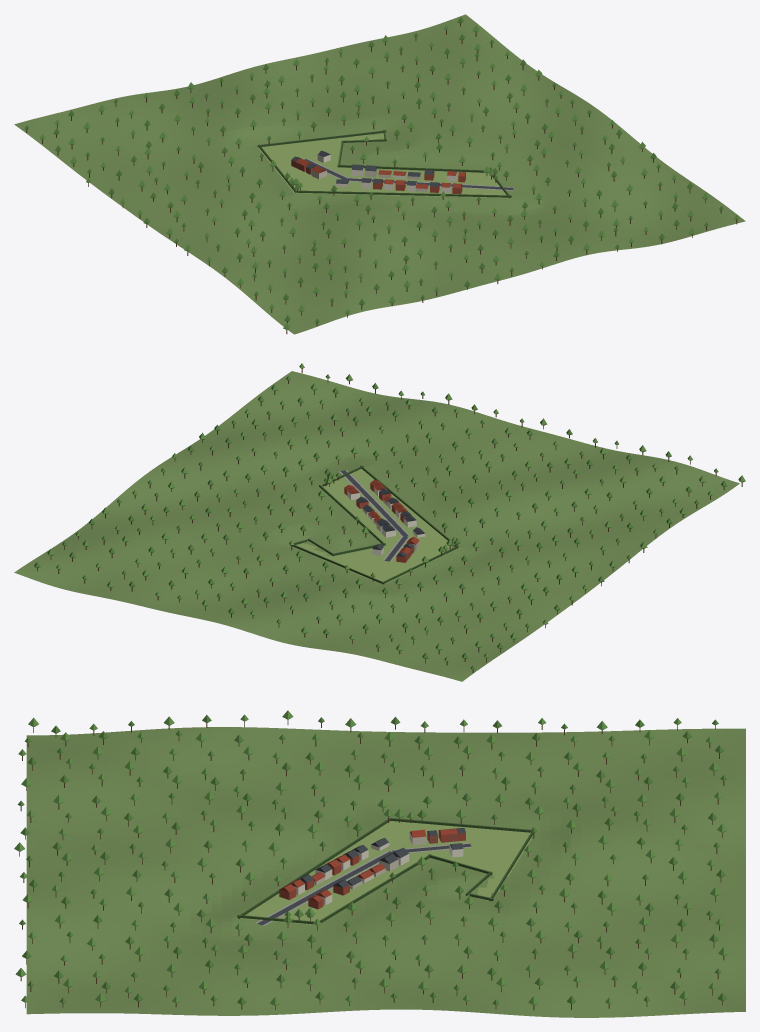
Rendered from landscape.glb.
The picture shows the model from 3 angles, top to bottom: view 1: azimuth 30°, elevation 25°; view 2: azimuth 150°, elevation 25°; view 3: azimuth 270°, elevation 25°; orthographic projection. The views are drawn at different scales.
Visible parts, largest first — view 1: Terrain, Slab, Hedge_1; view 2: Terrain, Slab, Road; view 3: Terrain, Slab, Road, Footway, Hedge_1.
Part boxes in pixels (x1,y1,x2,y2): Terrain: [14, 14, 745, 334]; Slab: [258, 133, 511, 198]; Hedge_1: [295, 190, 511, 197]; Terrain: [14, 371, 739, 681]; Slab: [295, 468, 459, 583]; Road: [340, 470, 408, 561]; Terrain: [26, 727, 745, 1017]; Slab: [236, 821, 531, 924]; Road: [257, 843, 471, 925]; Footway: [255, 842, 471, 925]; Hedge_1: [238, 818, 390, 918].
Size of the model in its own units: 488 by 21.64 by 524.
